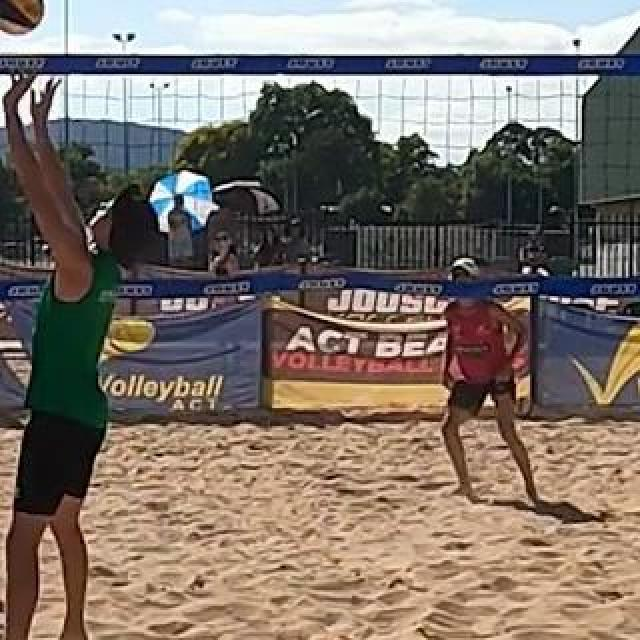volleyball: (0, 0, 44, 32)
